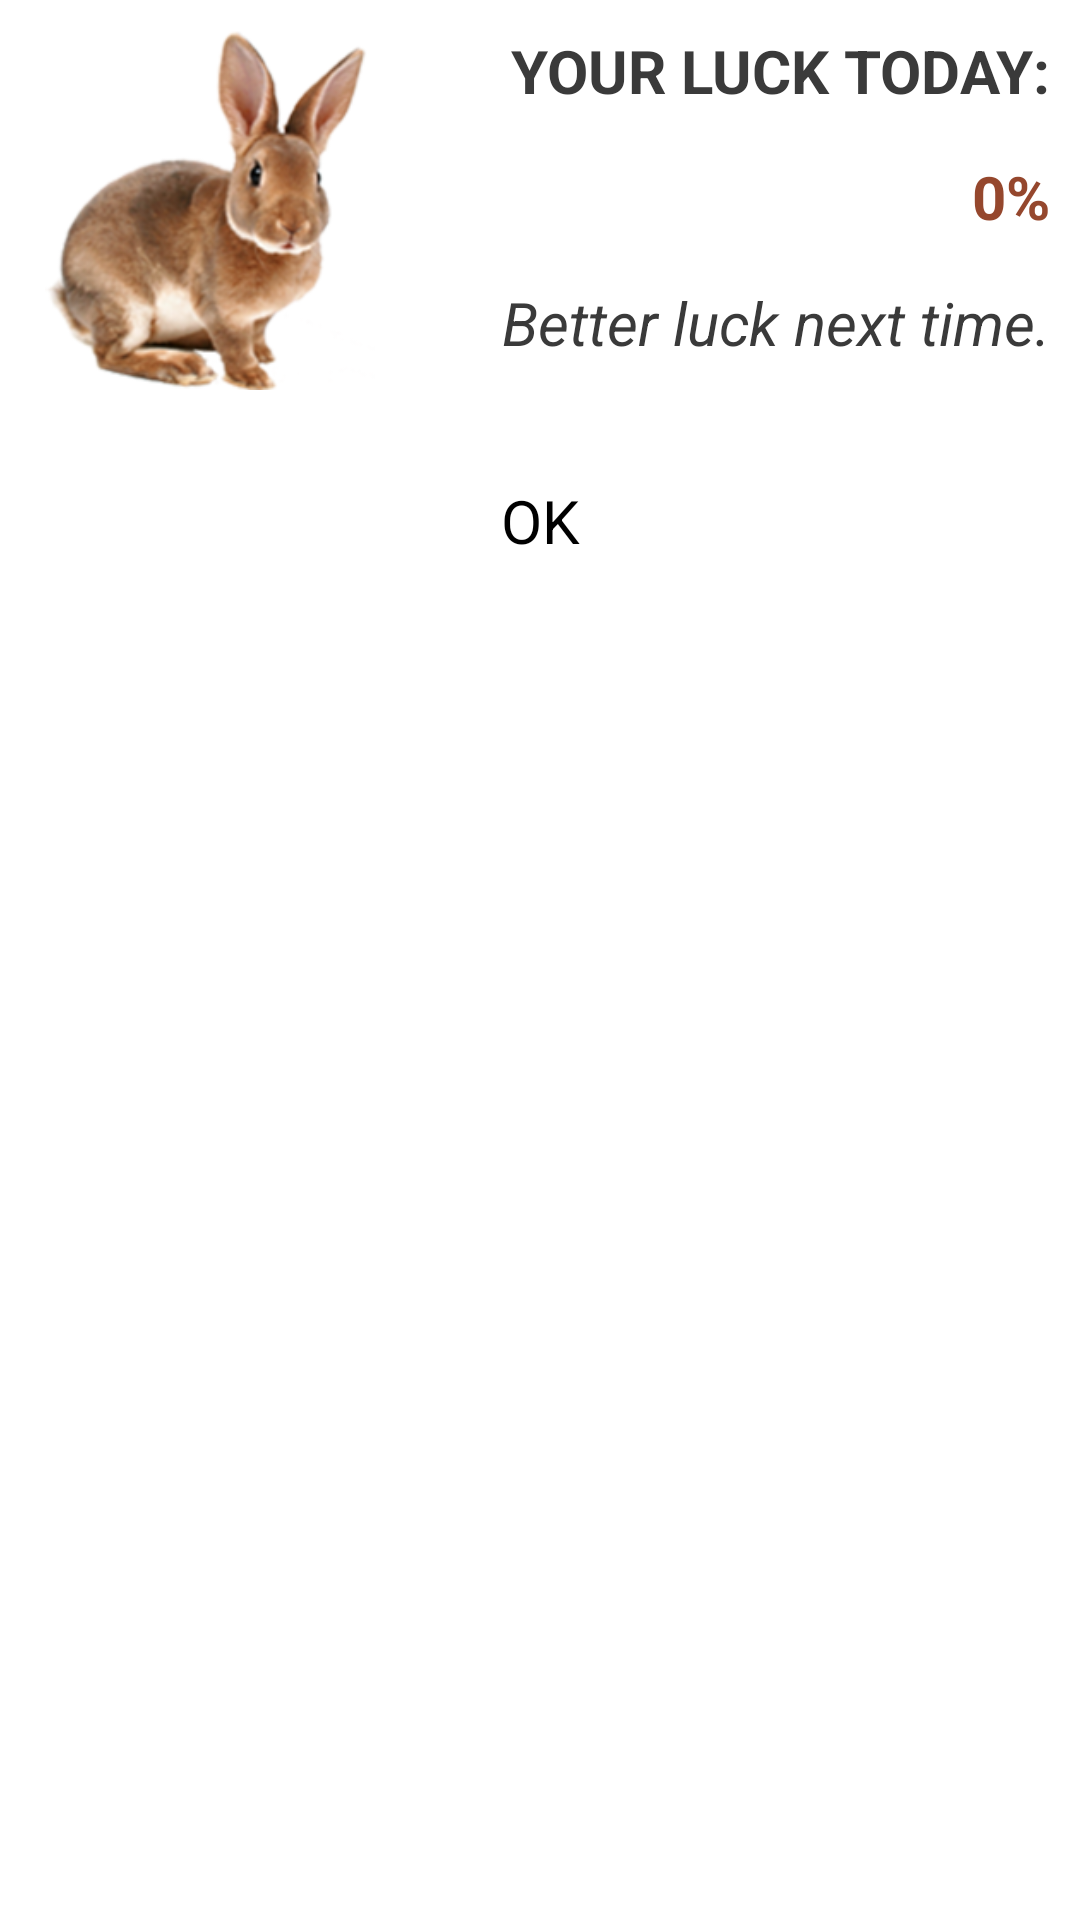

Where icons sit on this 1080×1920 app screen, as box=[x1, y1, x2, y2]:
Rabbit: box=[50, 33, 365, 390]
